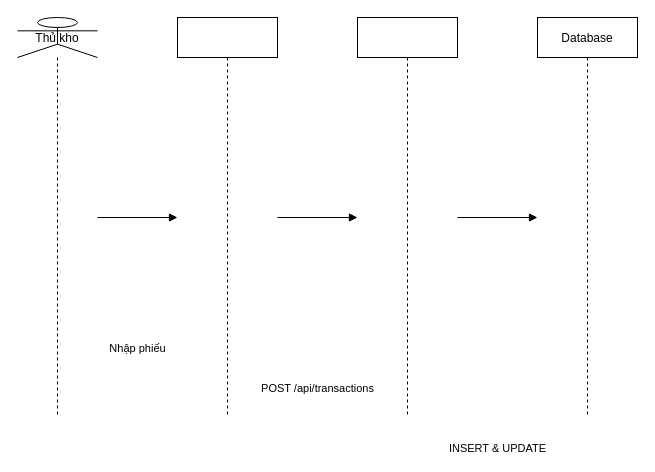
Some shapes in this 655 by 472 pixel diagram are drawn without their labels. The shapes that lost their labels are listed below. From the top down, each one's box as (x1, y1, x2, y2) in pixels, then its label:
(176, 16, 278, 418): Frontend
(356, 16, 458, 418): FastAPI
